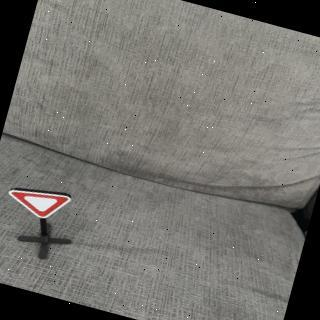sign_yield: (2, 179, 79, 229)
